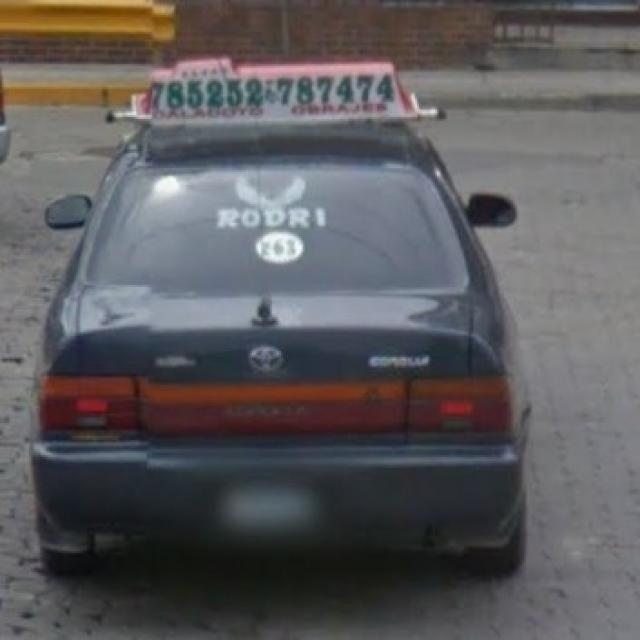Car: (51, 87, 526, 578)
